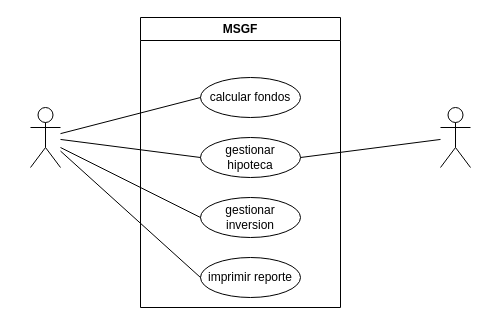
Some shapes in this 493 by 325 pixel diagram are drawn without their labels. The shapes that lost their labels are listed below. From the top down, each one's box as (x1, y1, x2, y2) in pixels, then its label:
(30, 106, 60, 168): Empleado MSG-F
(440, 106, 470, 168): Deudor (pareja)
